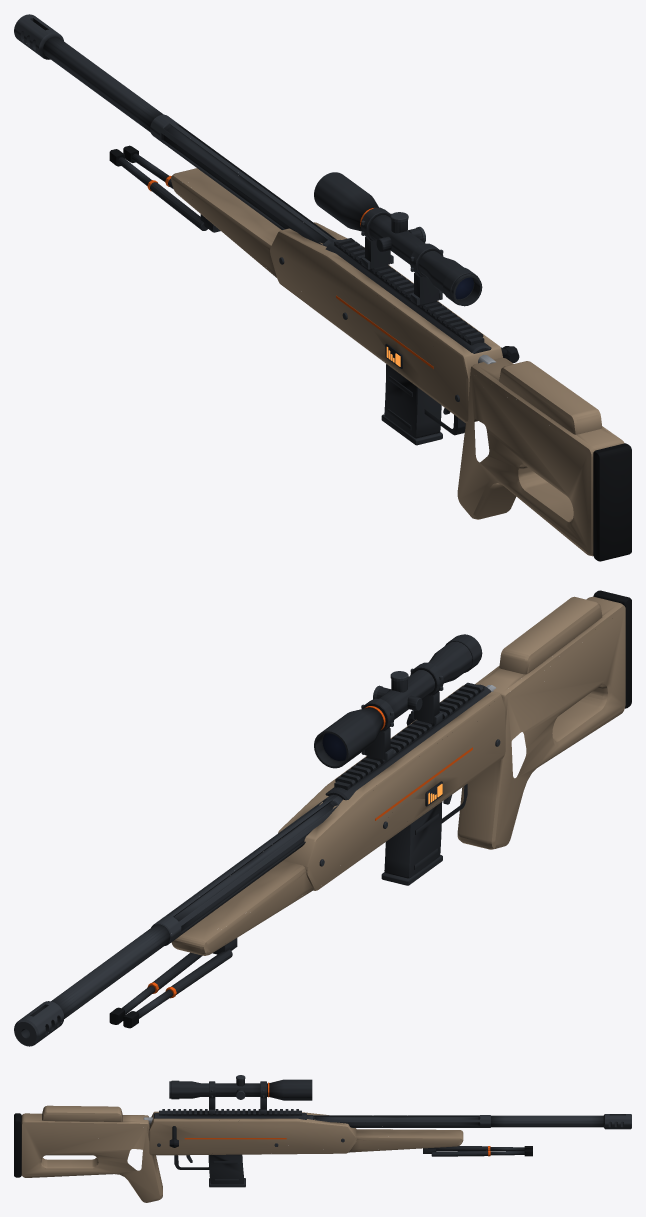
File: awm.glb
3 views of the same model, one above another, from view 1: azimuth 30°, elevation 25°; view 2: azimuth 150°, elevation 25°; view 3: azimuth 270°, elevation 25° (orthographic). The views are drawn at different scales.
Parts seen in each view (by area): view 1: body_frame, body_frame2, body_steel, body_rubber, mag_frame2; view 2: body_frame, body_frame2, body_steel, mag_frame2, body_rubber; view 3: body_frame, body_frame2, body_steel, mag_frame2, body_rubber, body_accent.
Boxes of the visible parts, box(x1,y1,x2,y2) form: body_frame: box(171, 168, 624, 556); body_frame2: box(150, 172, 491, 435); body_steel: box(14, 14, 459, 414); body_rubber: box(109, 145, 631, 561); mag_frame2: box(381, 364, 442, 445); body_frame: box(171, 596, 625, 955); body_frame2: box(152, 634, 491, 994); body_steel: box(14, 668, 500, 1046); mag_frame2: box(381, 802, 442, 885); body_rubber: box(109, 590, 631, 1028); body_frame: box(21, 1105, 463, 1202); body_frame2: box(154, 1079, 487, 1169); body_steel: box(157, 1075, 631, 1162); mag_frame2: box(208, 1154, 245, 1187); body_rubber: box(14, 1113, 532, 1177); body_accent: box(184, 1082, 490, 1156).
Bounding box in the file's own units: 0.0901 × 0.2647 × 1.21.
